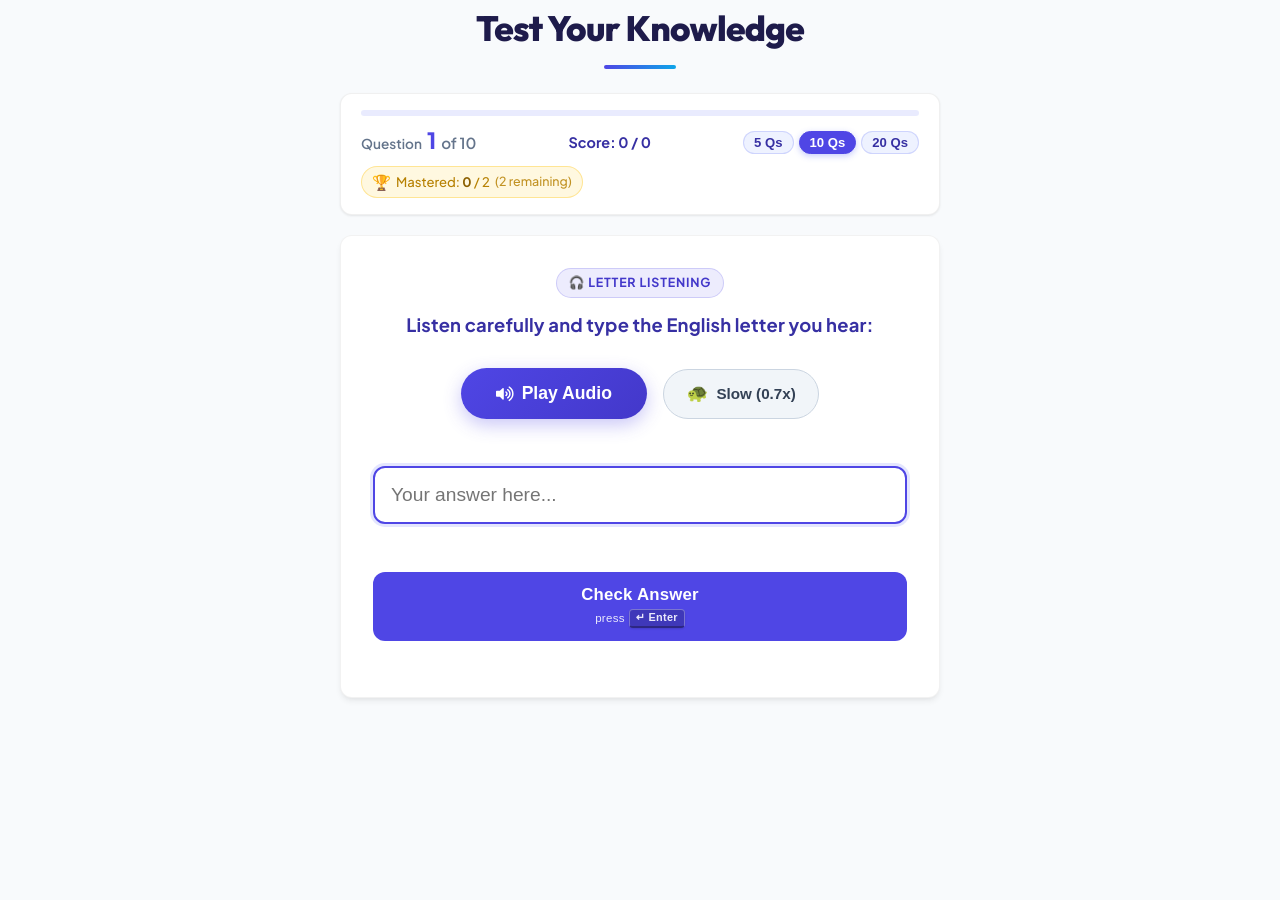
Test: Quiz Component - Session Goals & Mastery Filtering › tests letter recognition without giving away the letter in the prompt or hint
The image size is (1280, 900).
Expected: the text "🎧 Letter Listening" is shown, [556,268,724,298]
Expected: the heading "Listen carefully and type the English letter you hear:" is shown, [373,310,907,339]
Verify typing 'o' works
Type "o" into the field with placeholder "Your answer here..." at (640, 495), box [373,466,907,524]
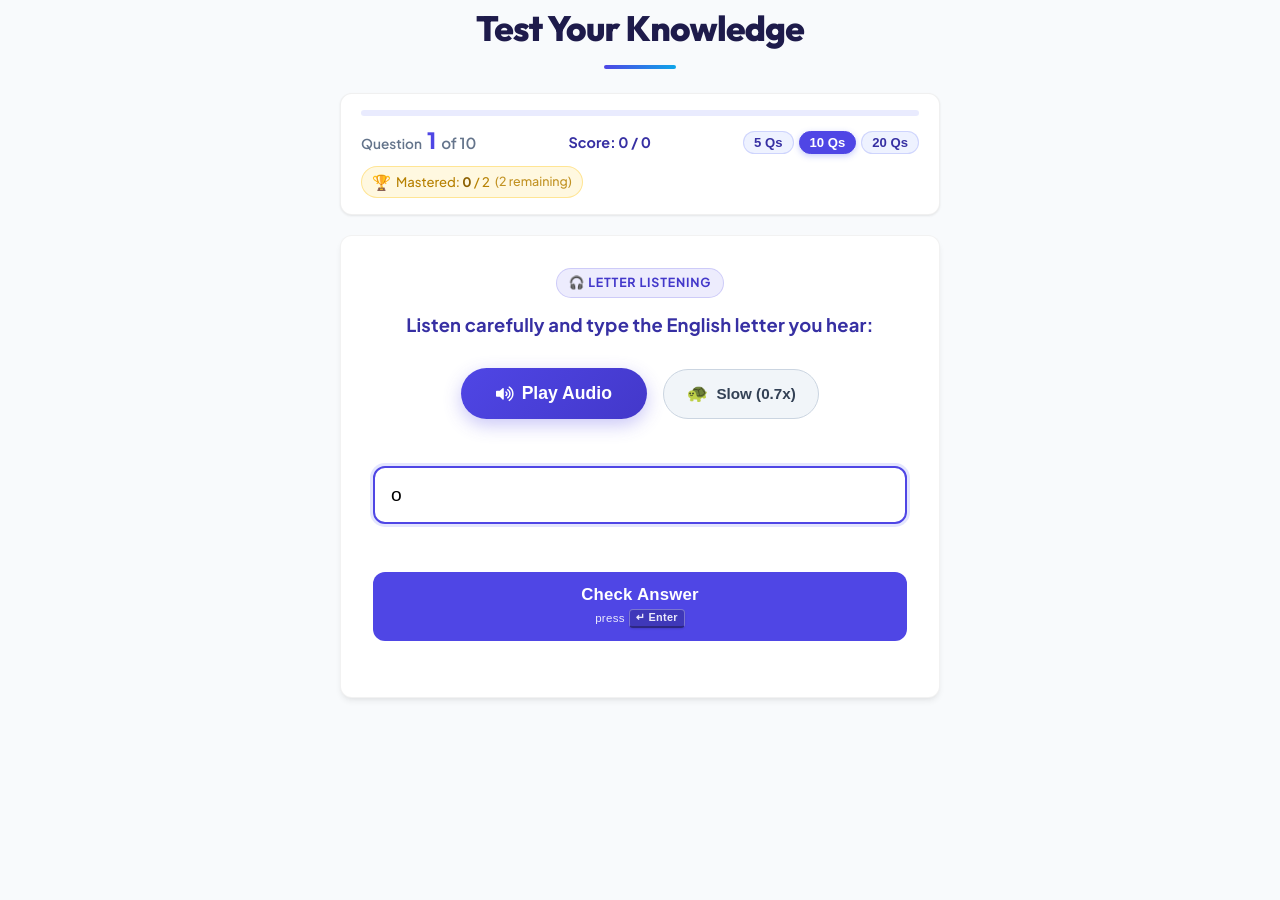
Click the button "Check Answer press ↵ Enter" at (640, 606), box [373,572,907,641]
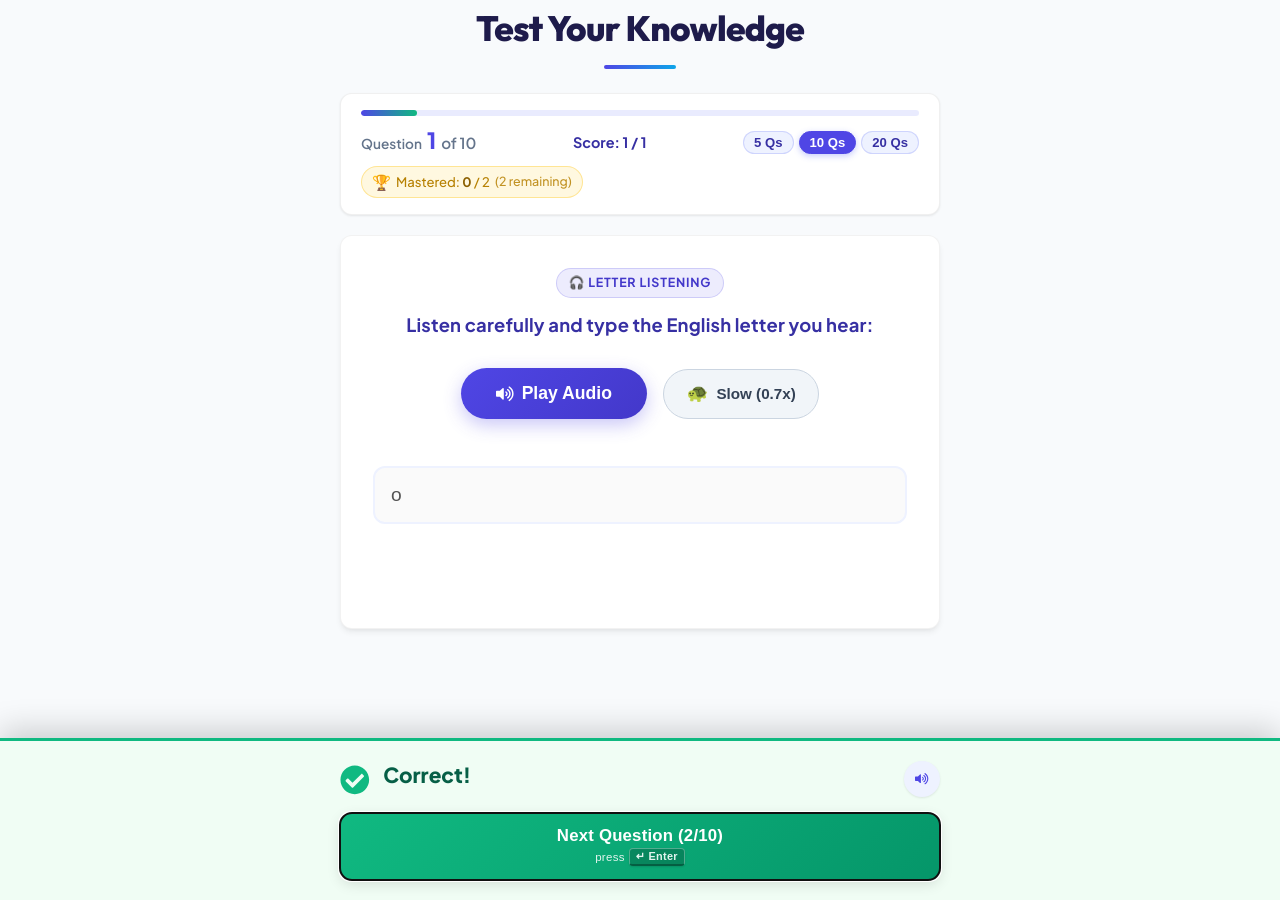
Expected: the text "Correct!" is shown, [383,763,471,788]
